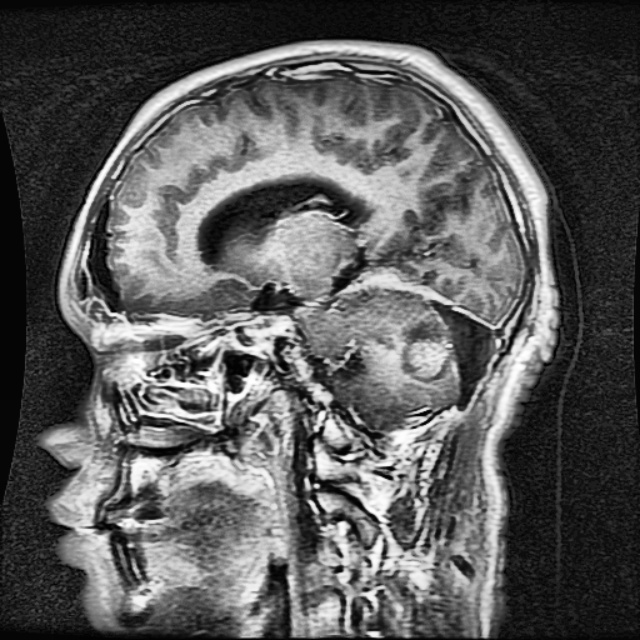Meningioma: (432, 299, 490, 405)
